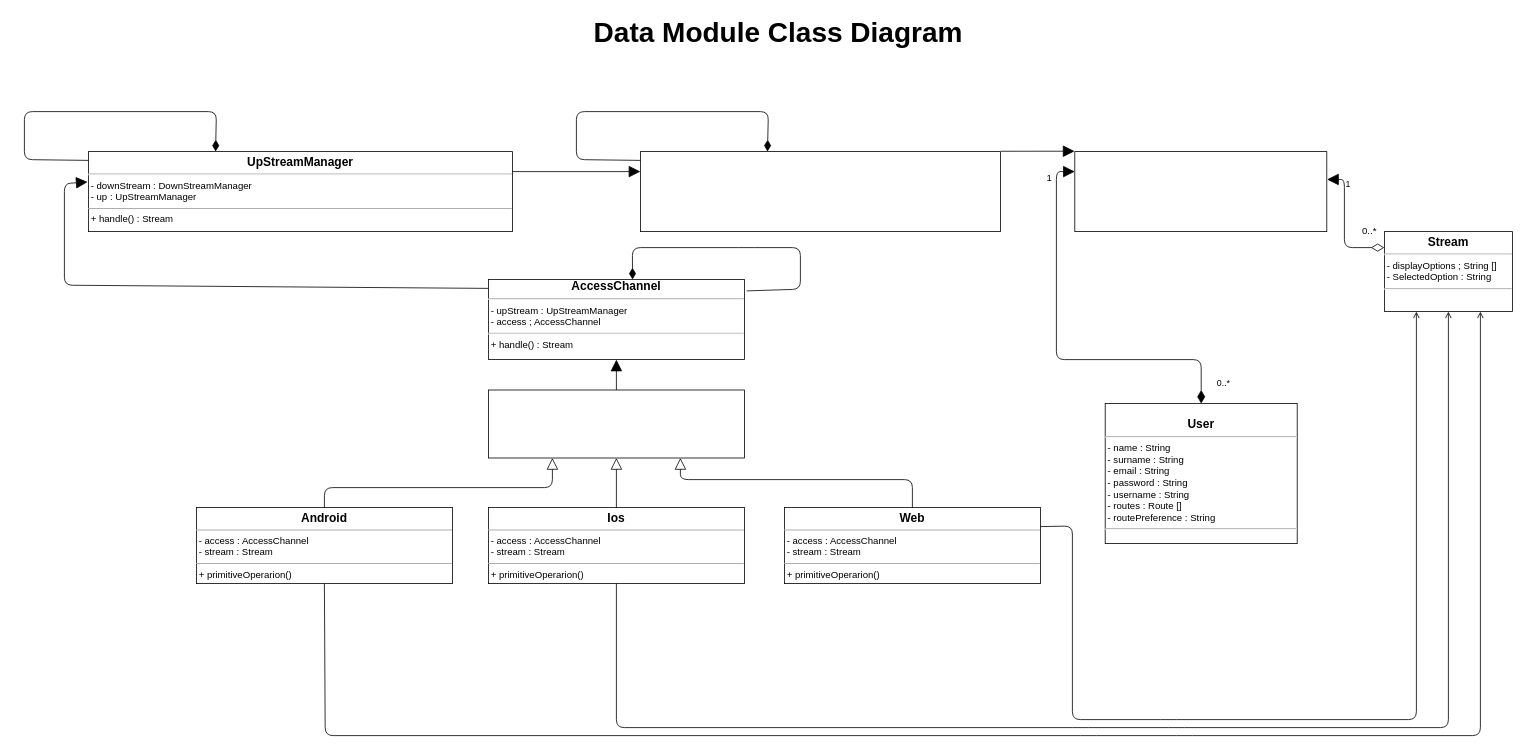
Some shapes in this 1526 by 756 pixel diagram are drawn without their labels. Here are the shapes that lost their labels. From the top down, the box of each, then its label:
(640, 151, 1000, 232): DownStreamManager - server : Server - down : DownStreamManager + handle : Stream
(1074, 151, 1327, 232): Server - streamOptions : Stream [1..*] - users : User [0..*] + handle() : Stream
(488, 389, 744, 458): Device - access : AccessChannel + handle() : Stream
